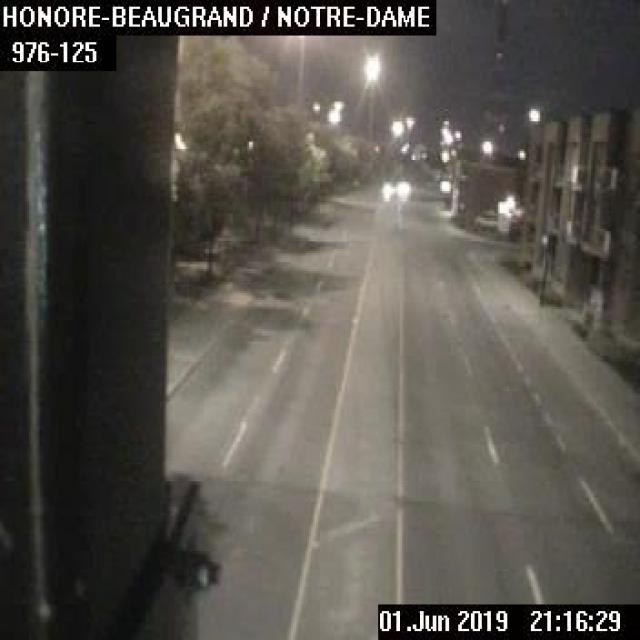vehicle: (472, 209, 496, 228)
